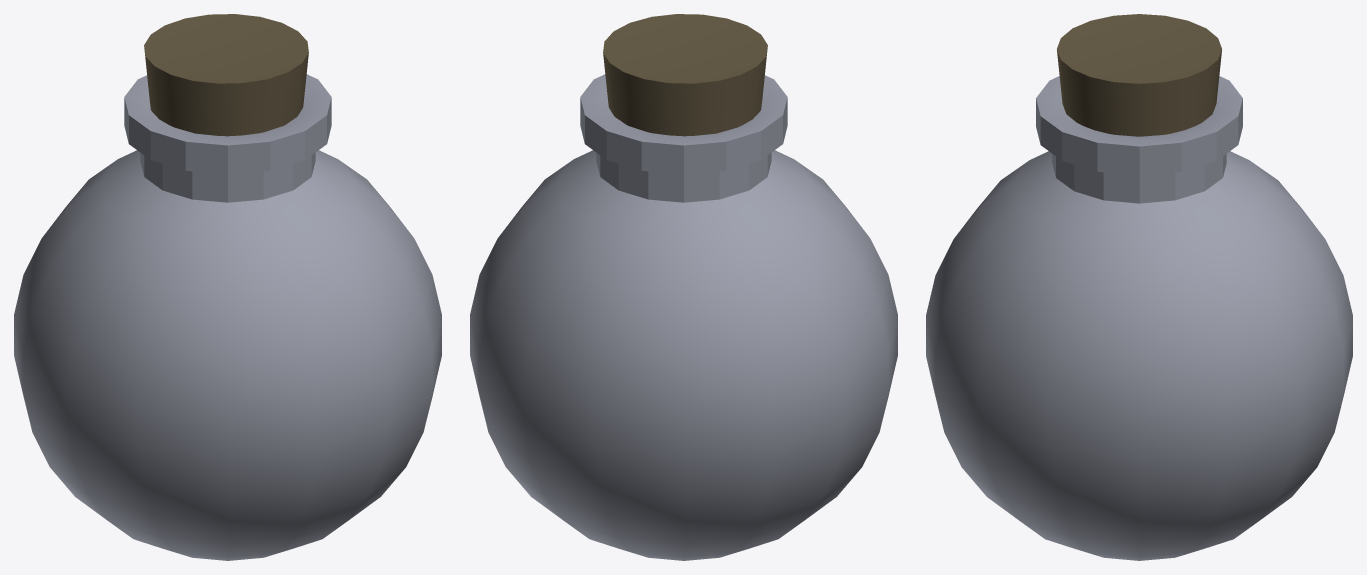
File: Potion.fbx
3 renders of one model, left to right at view 1: azimuth 30°, elevation 25°; view 2: azimuth 150°, elevation 25°; view 3: azimuth 270°, elevation 25°, orthographic.
Visible parts, largest first — view 1: pSphere1, pCylinder1; view 2: pSphere1, pCylinder1; view 3: pSphere1, pCylinder1.
Boxes of the visible parts, x1,y1,x2,y2 form: pSphere1: (14,74,441,560); pCylinder1: (144,14,308,136); pSphere1: (470,74,897,560); pCylinder1: (603,14,767,136); pSphere1: (926,76,1352,560); pCylinder1: (1057,14,1221,136).
Bounding box in the file's own units: 244 × 311 × 245.
